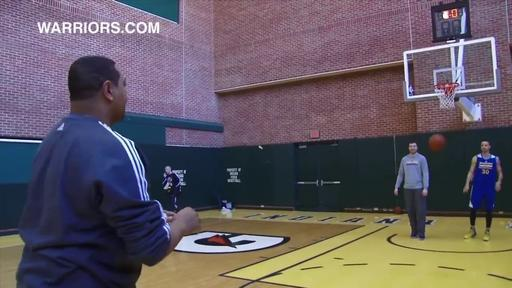ball: (427, 134, 448, 153)
human: (17, 56, 202, 288), (463, 138, 504, 242), (162, 166, 183, 214)
rim: (433, 83, 459, 110)
